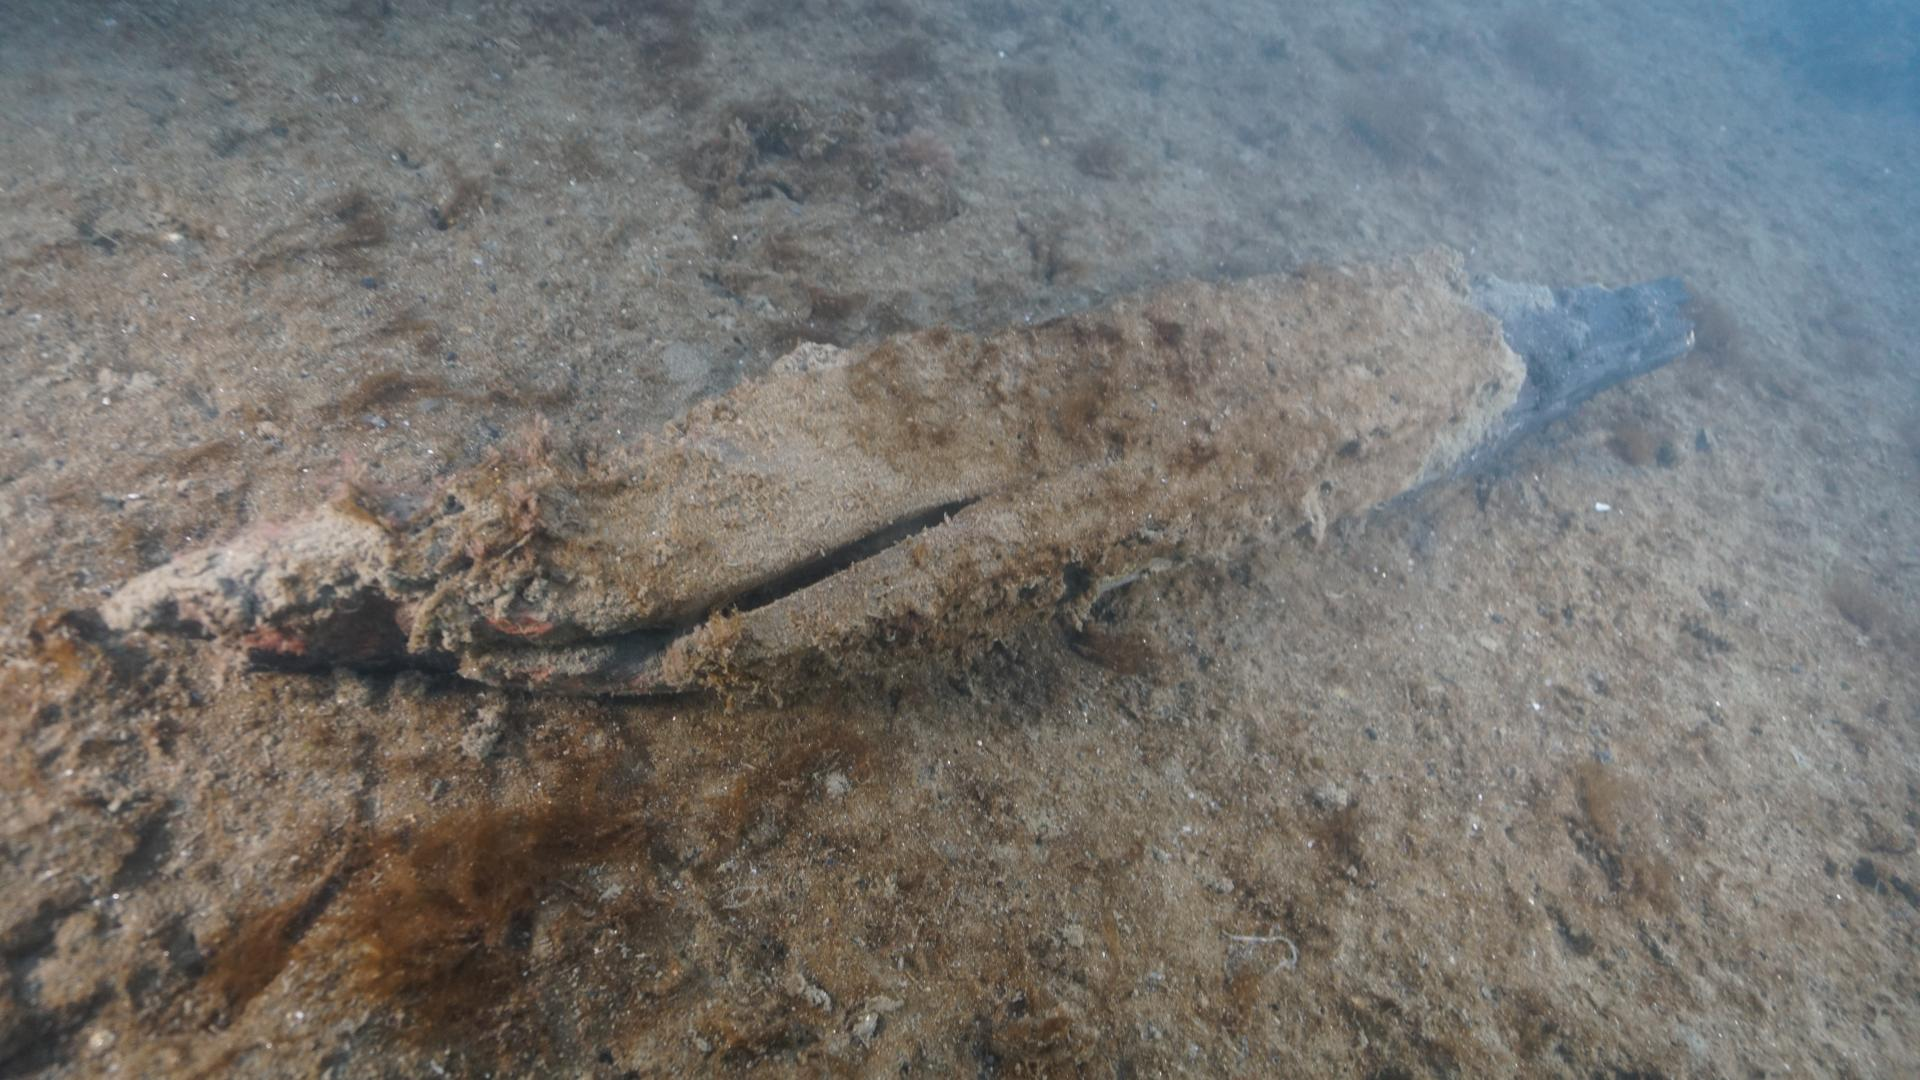wood: (98, 273, 1695, 688)
